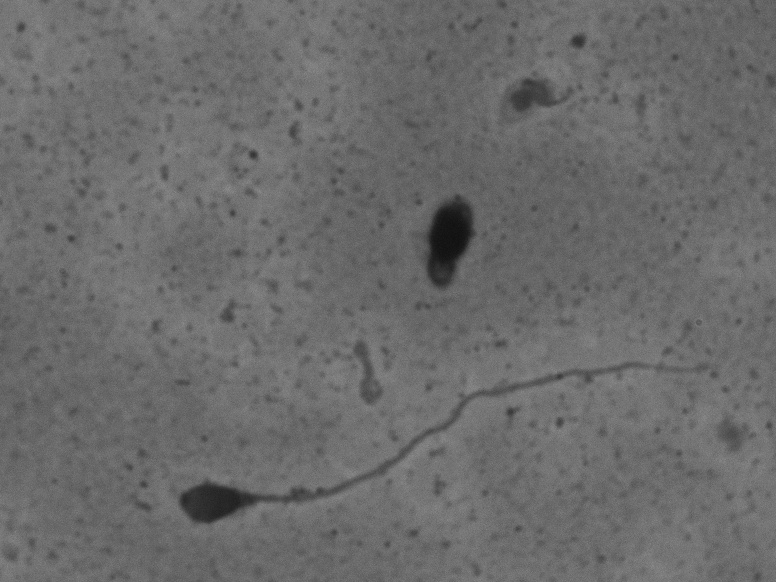Normal: (116, 341, 736, 529)
